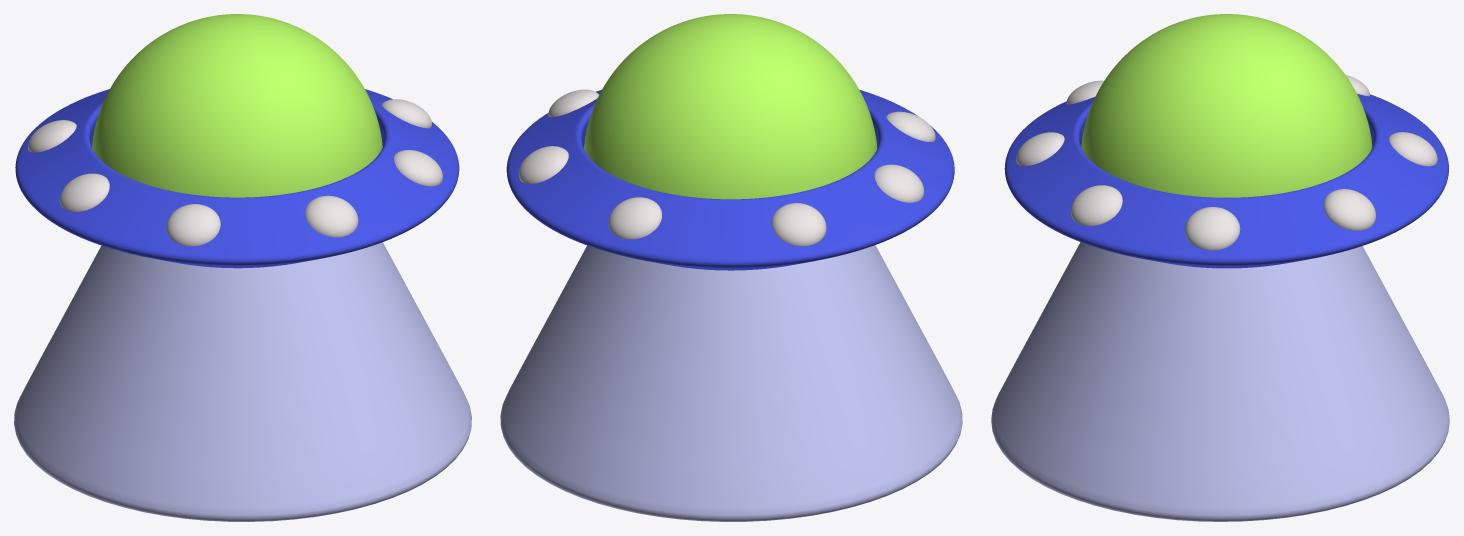
File: ufo-searching-animated-3d-icon-260446544890.glb
The picture shows the model from 3 angles, left to right: view 1: azimuth 30°, elevation 25°; view 2: azimuth 150°, elevation 25°; view 3: azimuth 270°, elevation 25°; orthographic projection.
Parts seen in each view (by area): view 1: Cylinder.002, Sphere.004, Circle, Sphere.012; view 2: Cylinder.002, Sphere.004, Circle, Sphere.012; view 3: Cylinder.002, Sphere.004, Circle, Sphere.012.
Boxes of the visible parts, box(x1,y1,x2,y2) form: Cylinder.002: box(14, 242, 471, 521); Sphere.004: box(92, 14, 382, 197); Circle: box(15, 89, 459, 268); Sphere.012: box(28, 99, 442, 246); Cylinder.002: box(500, 245, 962, 521); Sphere.004: box(584, 14, 877, 199); Circle: box(506, 89, 954, 270); Sphere.012: box(518, 89, 935, 246); Cylinder.002: box(991, 242, 1449, 521); Sphere.004: box(1081, 14, 1372, 197); Circle: box(1004, 94, 1448, 268); Sphere.012: box(1016, 75, 1437, 250).
Size of the model in its own units: 1.97 by 1.9 by 1.97.
